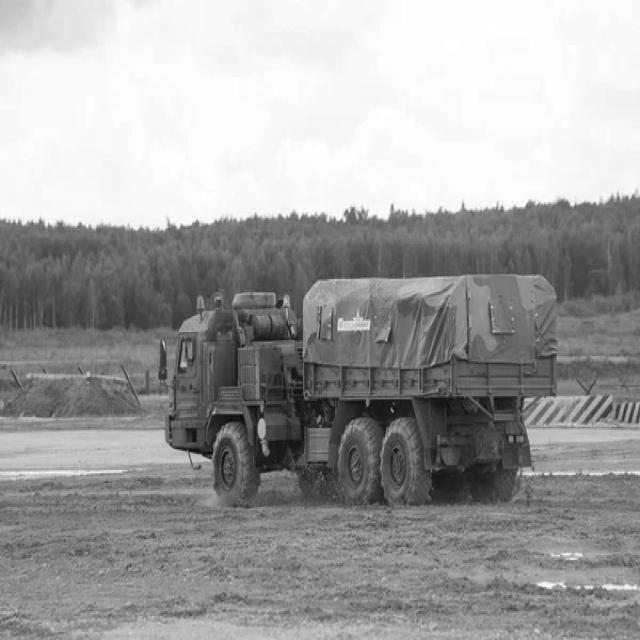Truck: (165, 274, 558, 506)
